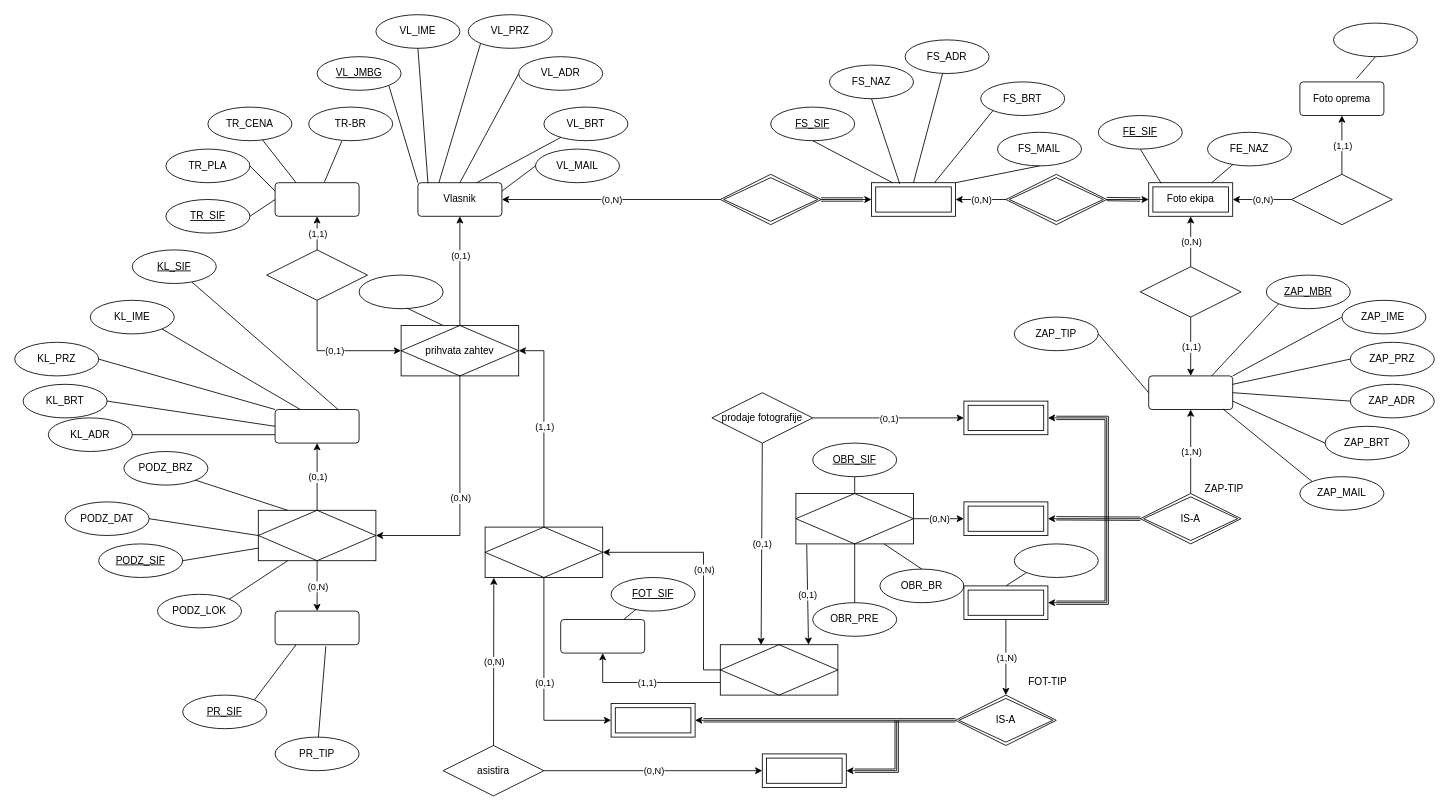
Some shapes in this 1449 by 811 pixel diagram are drawn without their labels. The shapes that lost their labels are listed below. From the top down, each one's box as (x1, y1, x2, y2) in pixels, then its label:
(1333, 22, 1418, 57): FO_SIF
(274, 182, 359, 216): Transakcija
(719, 173, 821, 225): drži
(871, 182, 956, 216): Foto studio
(1005, 173, 1107, 225): ima
(1291, 173, 1392, 225): poseduje
(266, 249, 368, 300): kreira
(358, 274, 443, 309): PRIZ_SIF
(1139, 266, 1241, 317): rade
(1148, 375, 1233, 410): Zaposleni
(274, 409, 359, 443): Klijent
(963, 400, 1048, 435): Prodavač
(257, 509, 376, 561): podnosi zahtev
(795, 493, 914, 544): obrađuje
(963, 501, 1048, 536): Retušer
(484, 526, 603, 578): postavlja
(1013, 543, 1098, 578): FOT_TIP
(963, 585, 1048, 620): Fotograf
(274, 610, 359, 645): Proslava
(560, 619, 645, 653): Fotografija
(719, 644, 838, 695): napravi
(610, 703, 695, 737): Glavni fotograf
(761, 753, 846, 788): Pomoćni fotograf
